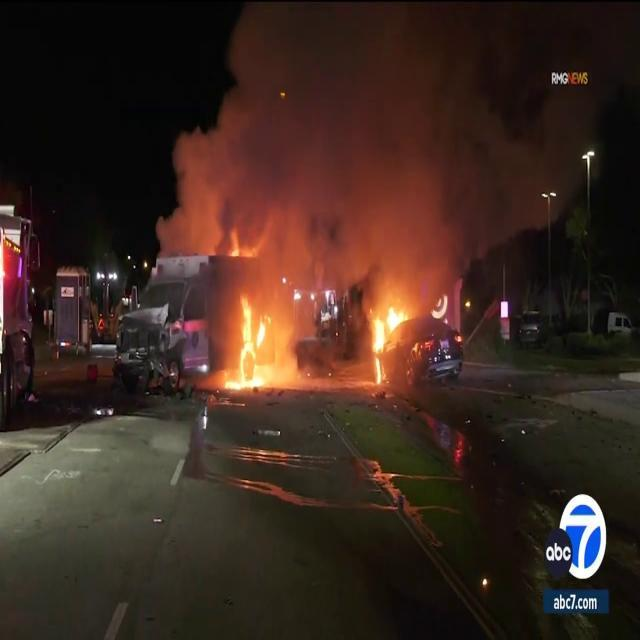Fire: (214, 293, 294, 397), (366, 292, 414, 380)
Smoke: (157, 1, 469, 262)
